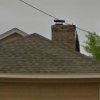Chimney: (46, 12, 87, 53)
